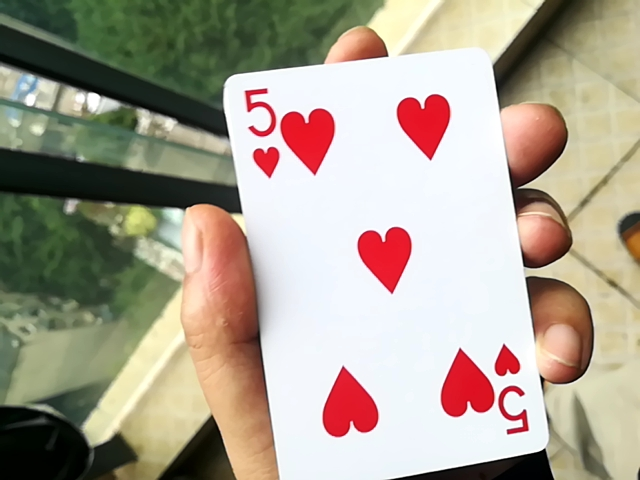hx 5: (208, 51, 553, 480)
